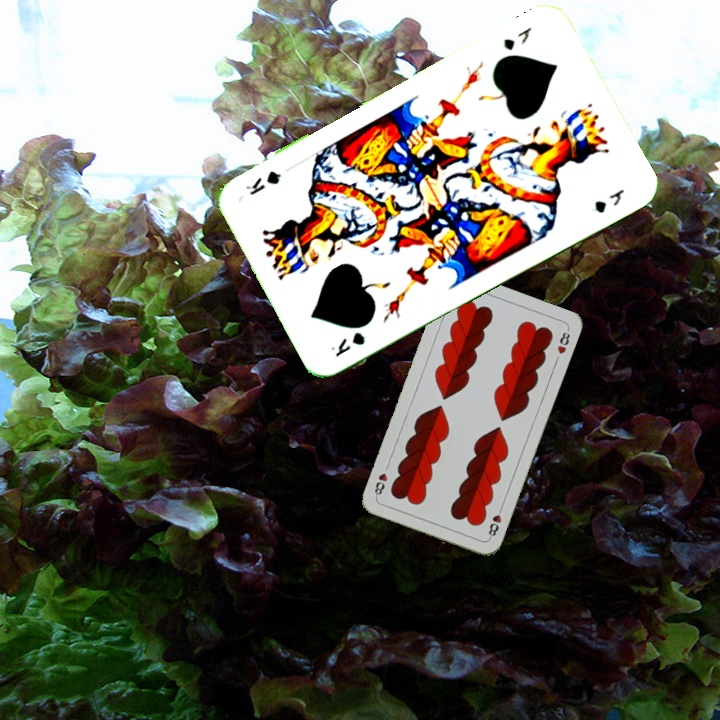GK: (327, 327, 368, 360), (499, 23, 535, 54)
H8: (484, 502, 505, 541)
